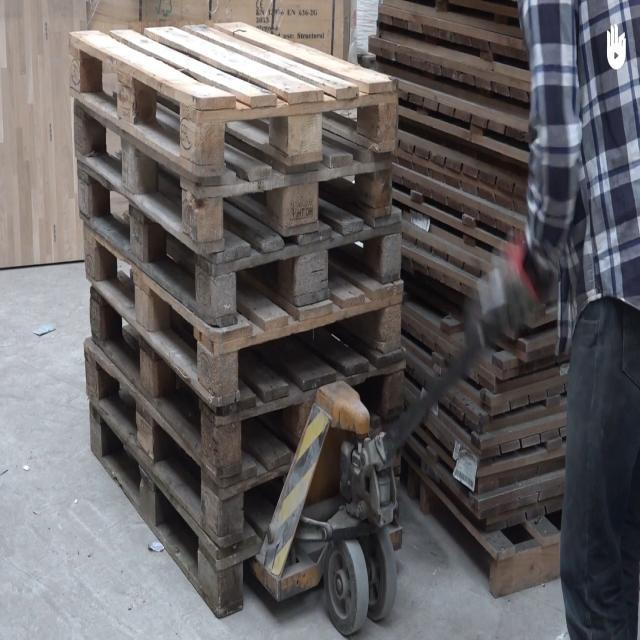Palette: (68, 9, 410, 615), (397, 455, 560, 598)
